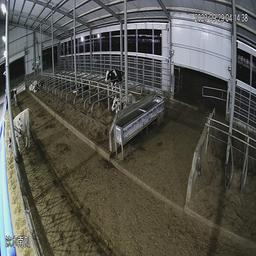cow: (3, 107, 37, 166), (103, 62, 122, 90), (104, 93, 135, 109), (3, 82, 18, 103), (29, 74, 42, 95)
